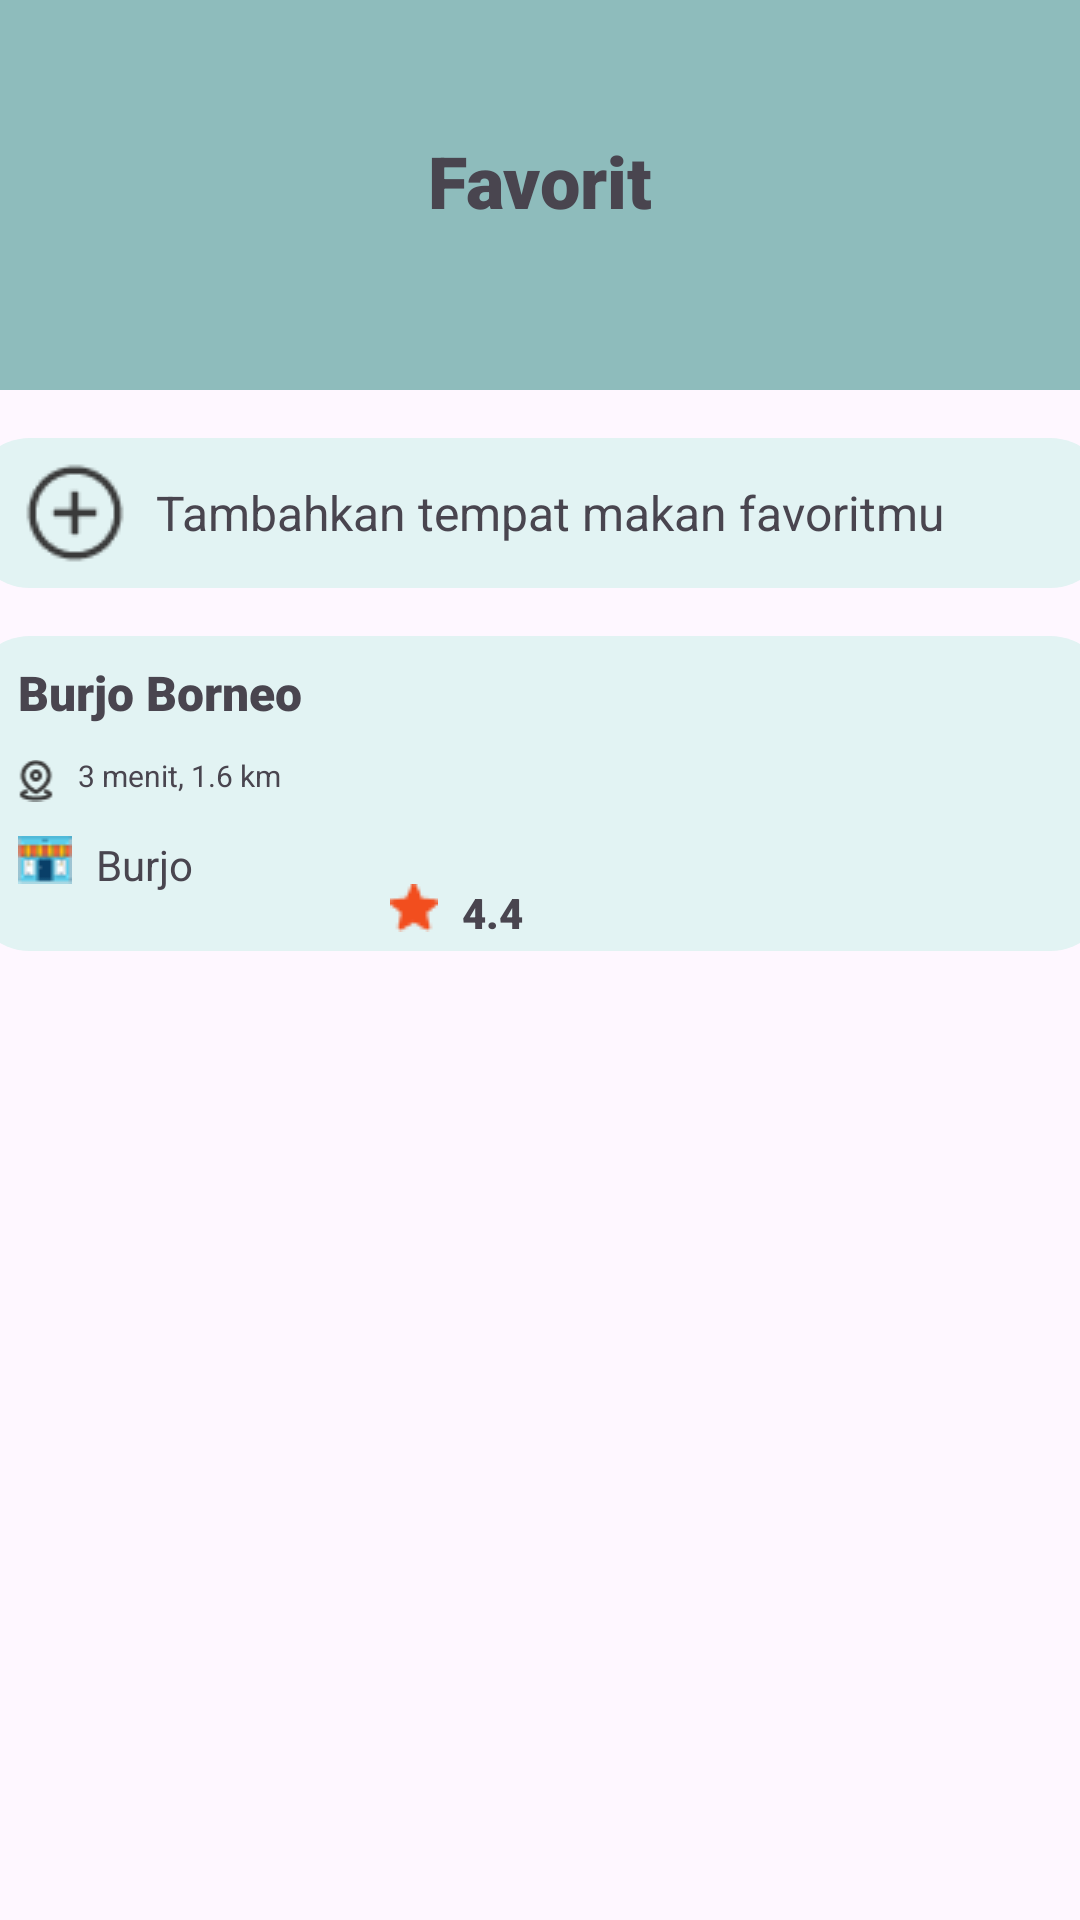

Icon click points for this 1080 x 1920 phone screenshot, format point (x, y):
location: point (36, 781)
rating: point (414, 908)
